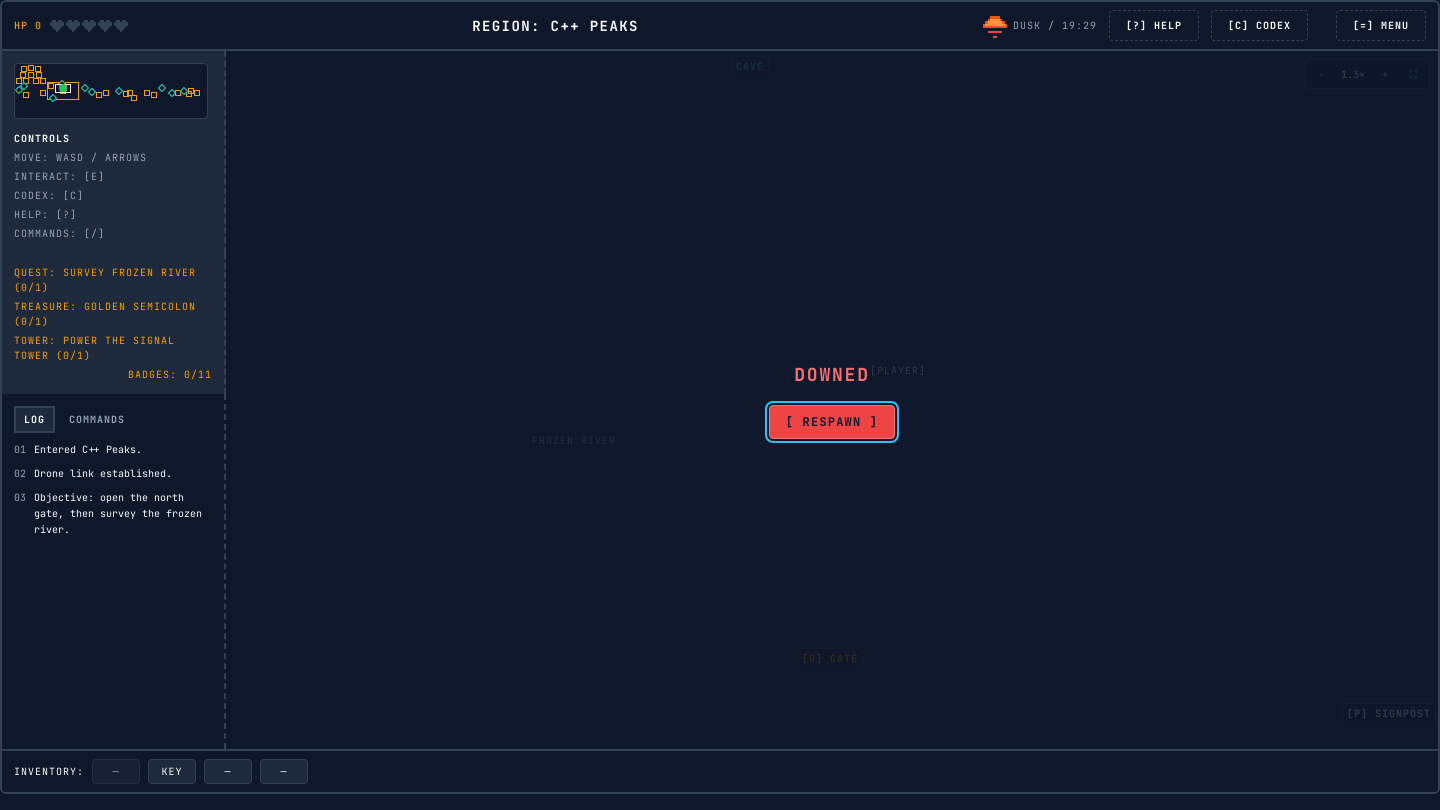
Overworld timers › at 0 HP shows DOWNED and Respawn restores the player
This screenshot has width=1440, height=810.
Check: the text "DOWNED" is shown, box [794, 361, 870, 389]
Step 1. Click the button "[ Respawn ]" → (832, 422), box [769, 405, 895, 439]
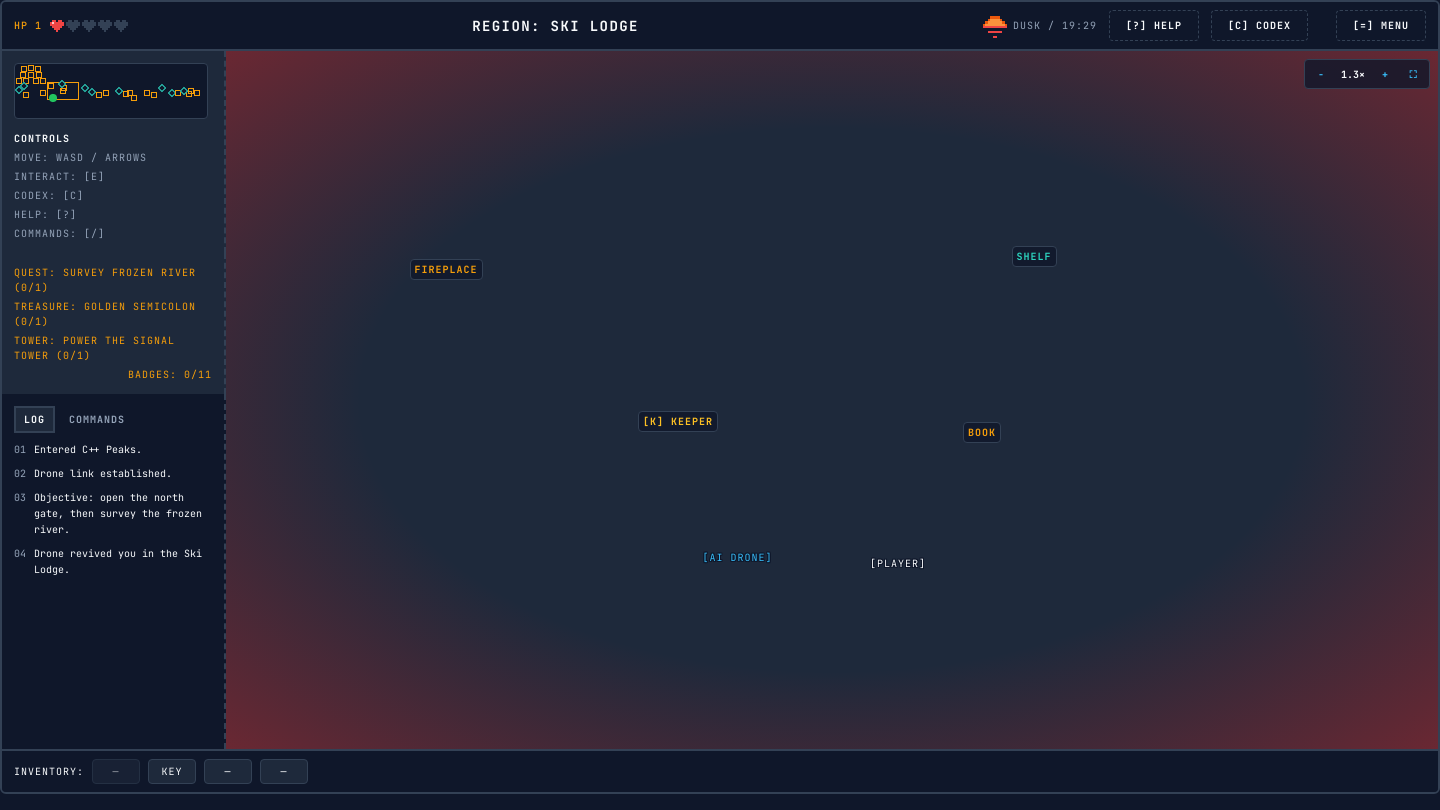
Check: the text "DOWNED" is gone
Check: the text "Drone revived you in the Ski Lodge." is shown, box [34, 546, 212, 578]
